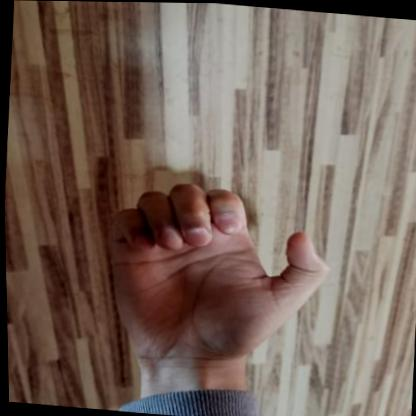E: (86, 169, 343, 388)
